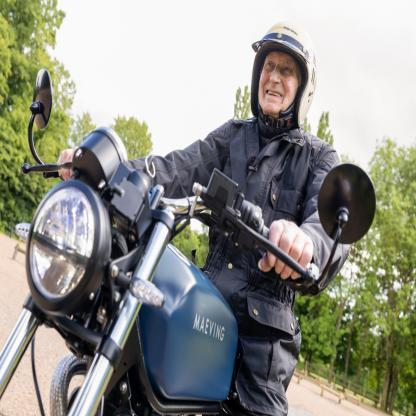helmet: (248, 21, 318, 131)
